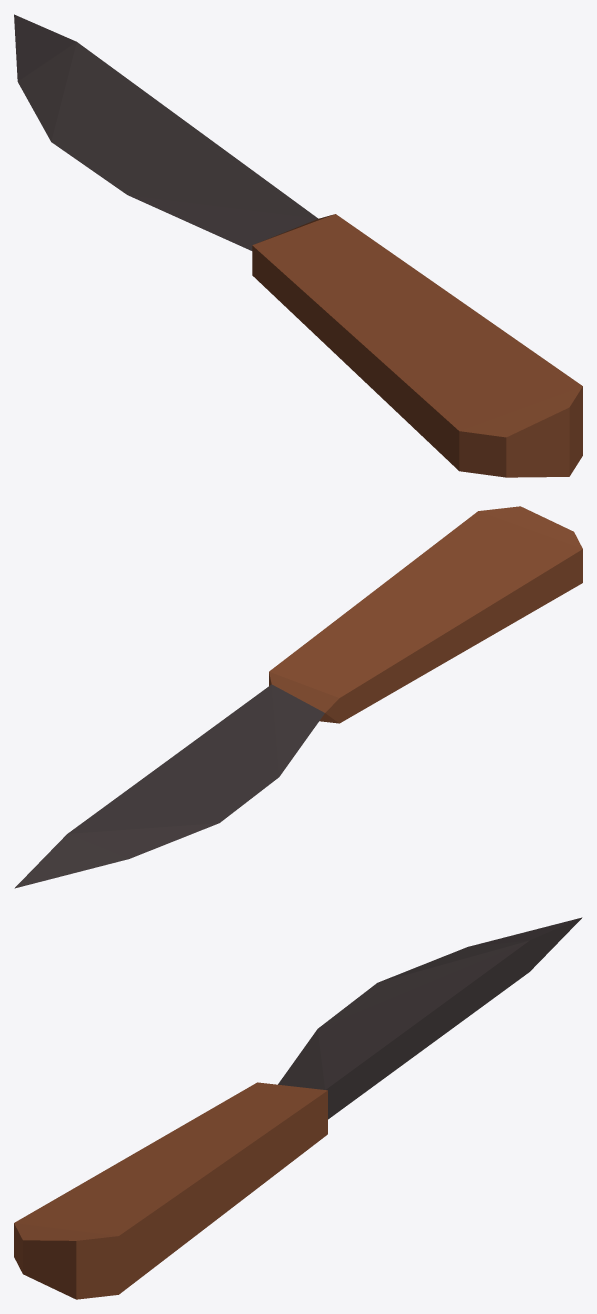
The model's file is LP_PostApoc_Plane.fbx.
3 views of the same model, one above another, from view 1: azimuth 30°, elevation 25°; view 2: azimuth 150°, elevation 25°; view 3: azimuth 330°, elevation 25° (orthographic). The views are drawn at different scales.
Visible parts, largest first — view 1: Plane; view 2: Plane; view 3: Plane.
Part boxes in pixels (box(x1,y1,x2,y2)): Plane: box(14, 14, 582, 477); Plane: box(14, 506, 582, 888); Plane: box(14, 917, 582, 1299).
Bounding box in the file's own units: 3.38 × 1.81 × 27.32.
